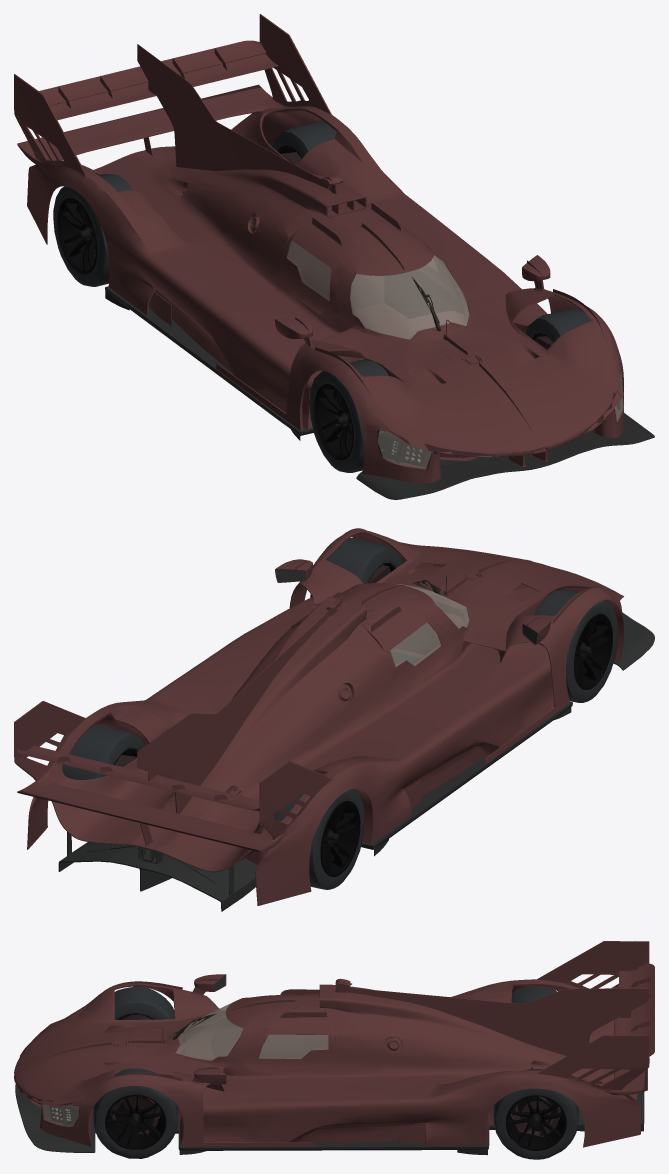
The model's file is ferrari-499p.glb.
The picture shows the model from 3 angles, top to bottom: view 1: azimuth 30°, elevation 25°; view 2: azimuth 150°, elevation 25°; view 3: azimuth 270°, elevation 25°; orthographic projection. The views are drawn at different scales.
Parts seen in each view (by area): view 1: BODY, GLASS, WHEEL_RF, WHEEL_RR, WHEEL_LR, WHEEL_LF; view 2: BODY, WHEEL_RF, WHEEL_RR, GLASS, WHEEL_LR, WHEEL_LF; view 3: BODY, WHEEL_LF, WHEEL_LR, GLASS, WHEEL_RF, WHEEL_RR.
Boxes of the visible parts, x1,y1,x2,y2 form: BODY: (14,14,654,499); GLASS: (24,85,623,469); WHEEL_RF: (309,360,388,472); WHEEL_RR: (53,173,132,286); WHEEL_LR: (272,121,336,158); WHEEL_LF: (525,307,590,342); BODY: (14,528,654,911); WHEEL_RF: (534,590,617,702); WHEEL_RR: (274,789,364,889); GLASS: (17,583,617,851); WHEEL_LR: (62,724,144,779); WHEEL_LF: (310,537,402,597); BODY: (14,940,654,1155); WHEEL_LF: (93,1068,178,1158); WHEEL_LR: (493,1069,578,1159); GLASS: (20,1001,647,1125); WHEEL_RF: (114,986,174,1019); WHEEL_RR: (511,987,556,1003).
Bounding box in the file's own units: 1.94 × 1.13 × 5.
